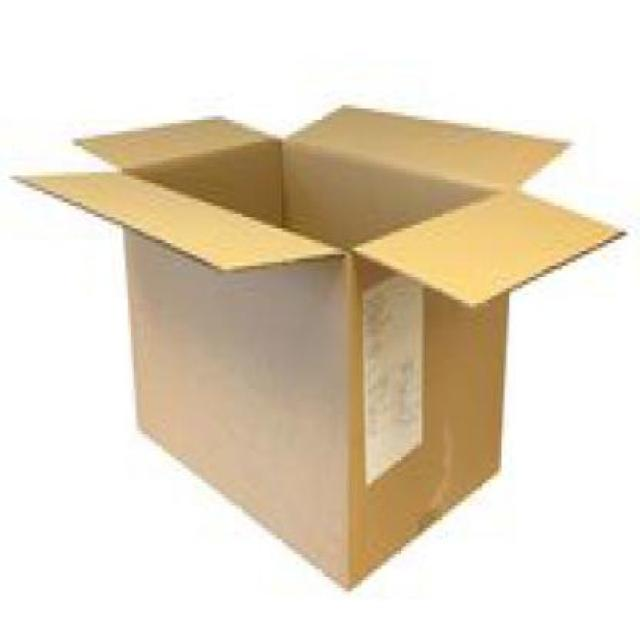box: (1, 71, 638, 595)
